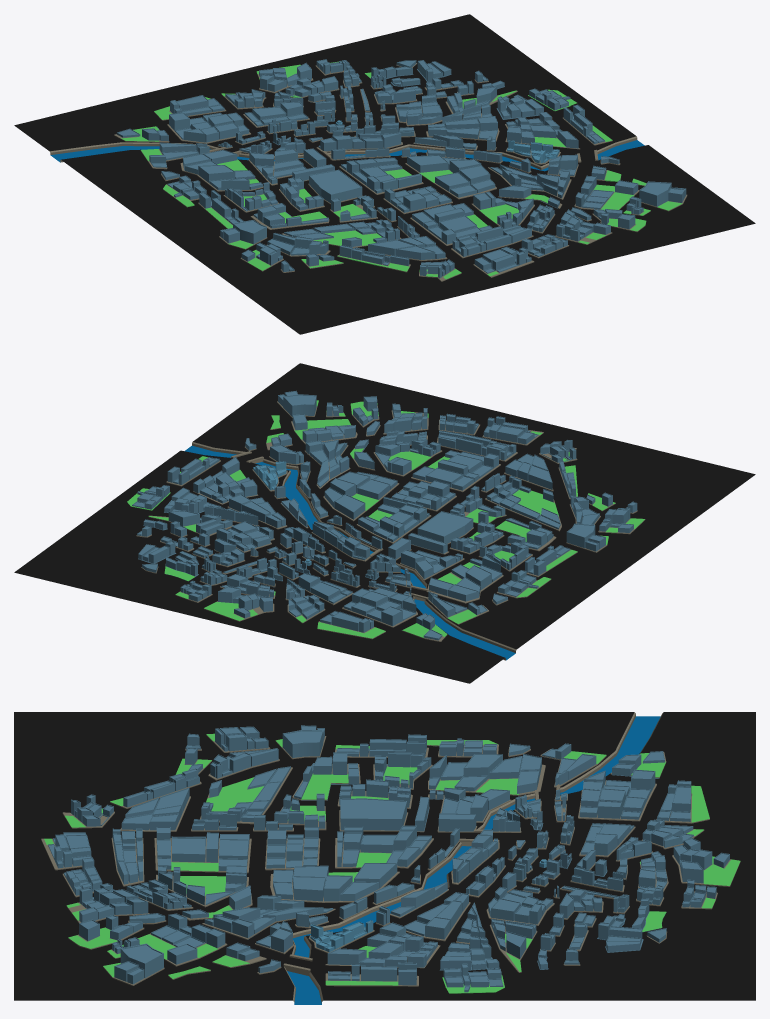
The model's file is baseplate_v3.fbx.
3 renders of one model, top to bottom at view 1: azimuth 30°, elevation 25°; view 2: azimuth 150°, elevation 25°; view 3: azimuth 270°, elevation 25°, orthographic. The views are drawn at different scales.
Parts seen in each view (by area): view 1: baseplate1, buildings2, pavement1; view 2: baseplate1, buildings2, pavement1; view 3: baseplate1, buildings2, pavement1.
Part boxes in pixels (x1=…): baseplate1: x1=14, y1=14, x2=755, y2=334; buildings2: x1=116, y1=59, x2=686, y2=278; pavement1: x1=114, y1=61, x2=687, y2=281; baseplate1: x1=14, y1=363, x2=755, y2=683; buildings2: x1=132, y1=390, x2=637, y2=640; pavement1: x1=127, y1=400, x2=645, y2=641; baseplate1: x1=14, y1=712, x2=755, y2=1004; buildings2: x1=48, y1=725, x2=729, y2=992; pavement1: x1=41, y1=733, x2=740, y2=993.
Bounding box in the file's own units: 26 × 0.8531 × 28.26.
